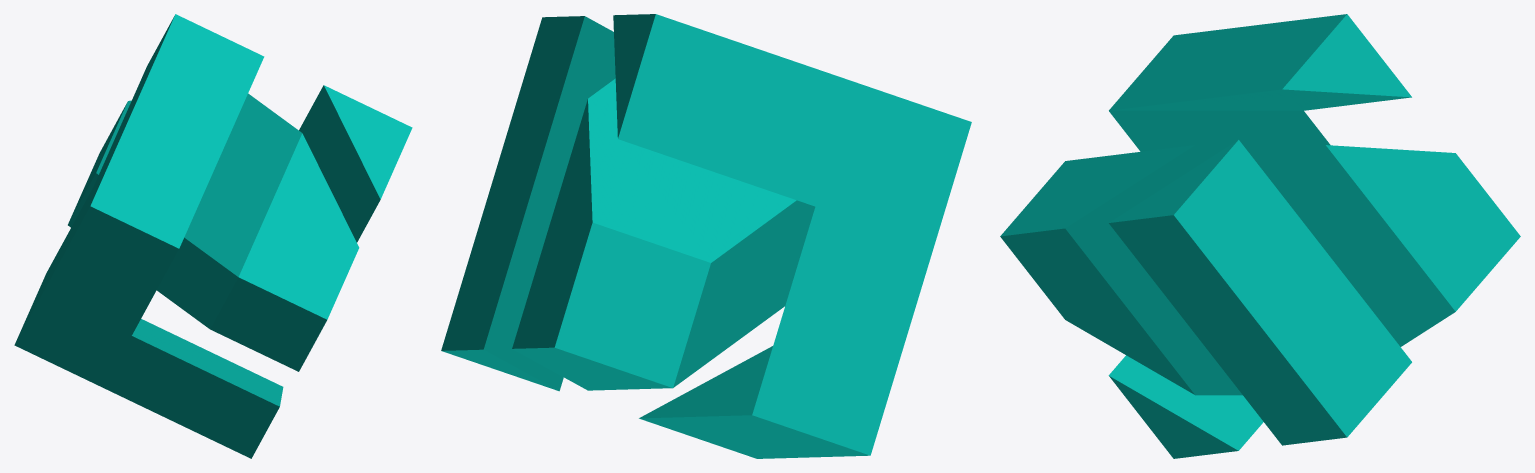
Rendered from drive.glb.
3 renders of one model, left to right at view 1: azimuth 30°, elevation 25°; view 2: azimuth 150°, elevation 25°; view 3: azimuth 270°, elevation 25°, orthographic. The views are drawn at different scales.
Parts seen in each view (by area): view 1: Cube.001; view 2: Cube.001; view 3: Cube.001.
Part boxes in pixels (x1=…): Cube.001: x1=14, y1=14, x2=412, y2=458; Cube.001: x1=441, y1=14, x2=971, y2=458; Cube.001: x1=1000, y1=14, x2=1520, y2=458.
Size of the model in its own units: 2.83 by 3.27 by 3.46.
